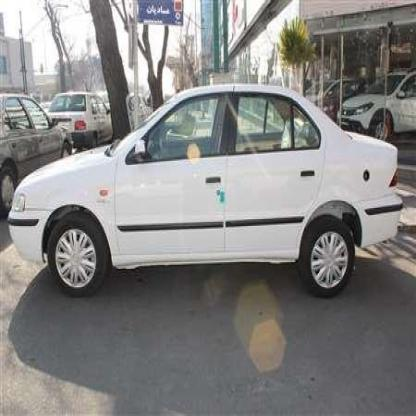Car: (17, 115, 405, 312), (0, 86, 74, 247), (48, 81, 125, 158), (354, 69, 416, 143), (314, 68, 353, 122)
